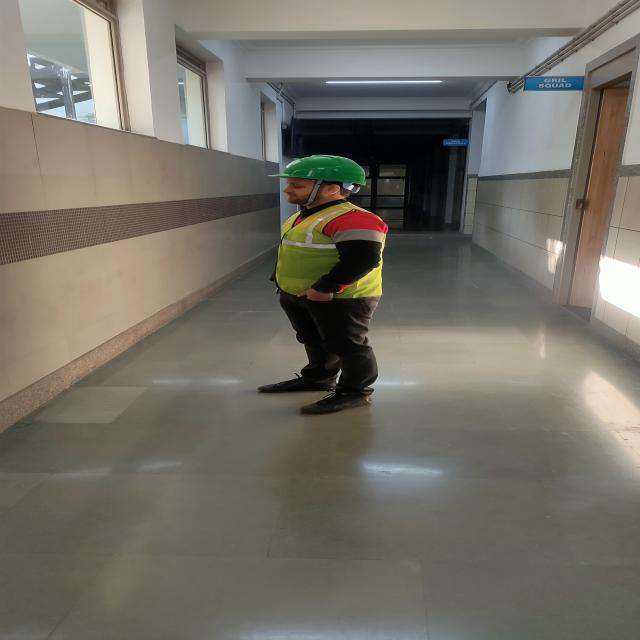unsafe: (253, 155, 387, 416)
